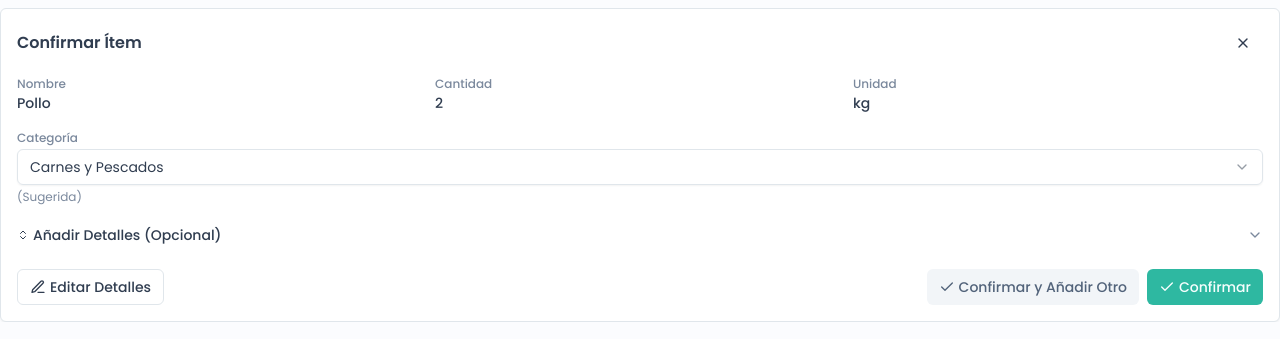
Test: InteractivePreview › allows changing the category
Click the dropdown.
click(97, 167)  # box [17,149,1263,185]
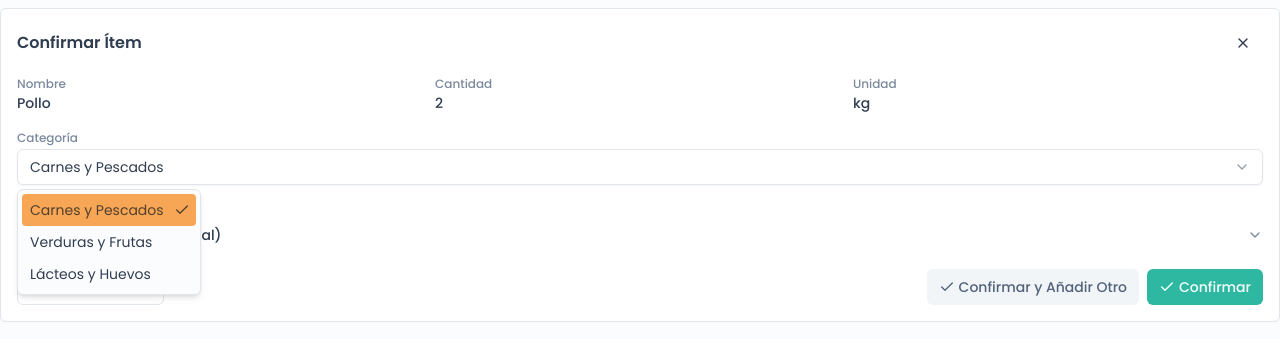
# Esperar a que las opciones aparezcan y seleccionar una nueva
Click the option "Verduras y Frutas".
click(91, 242)  # box [30,232,152,252]
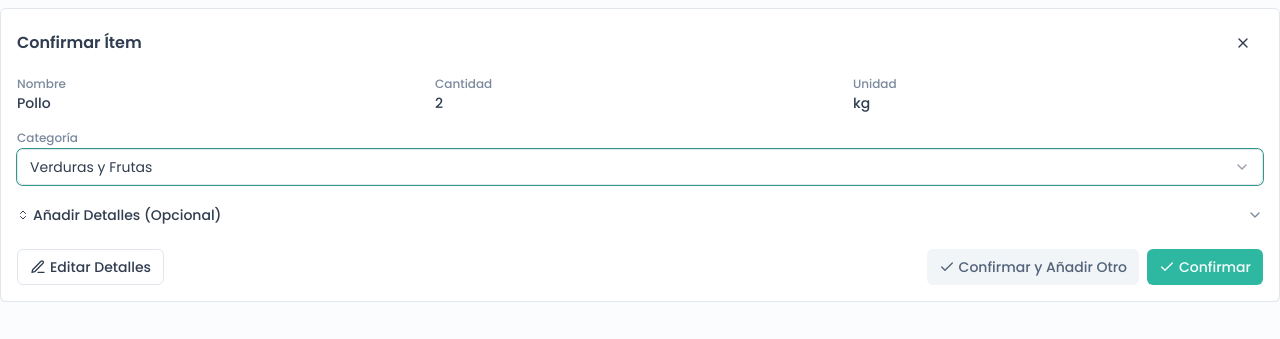
Expected: the dropdown reads "Verduras y Frutas", [17,149,1263,185]
